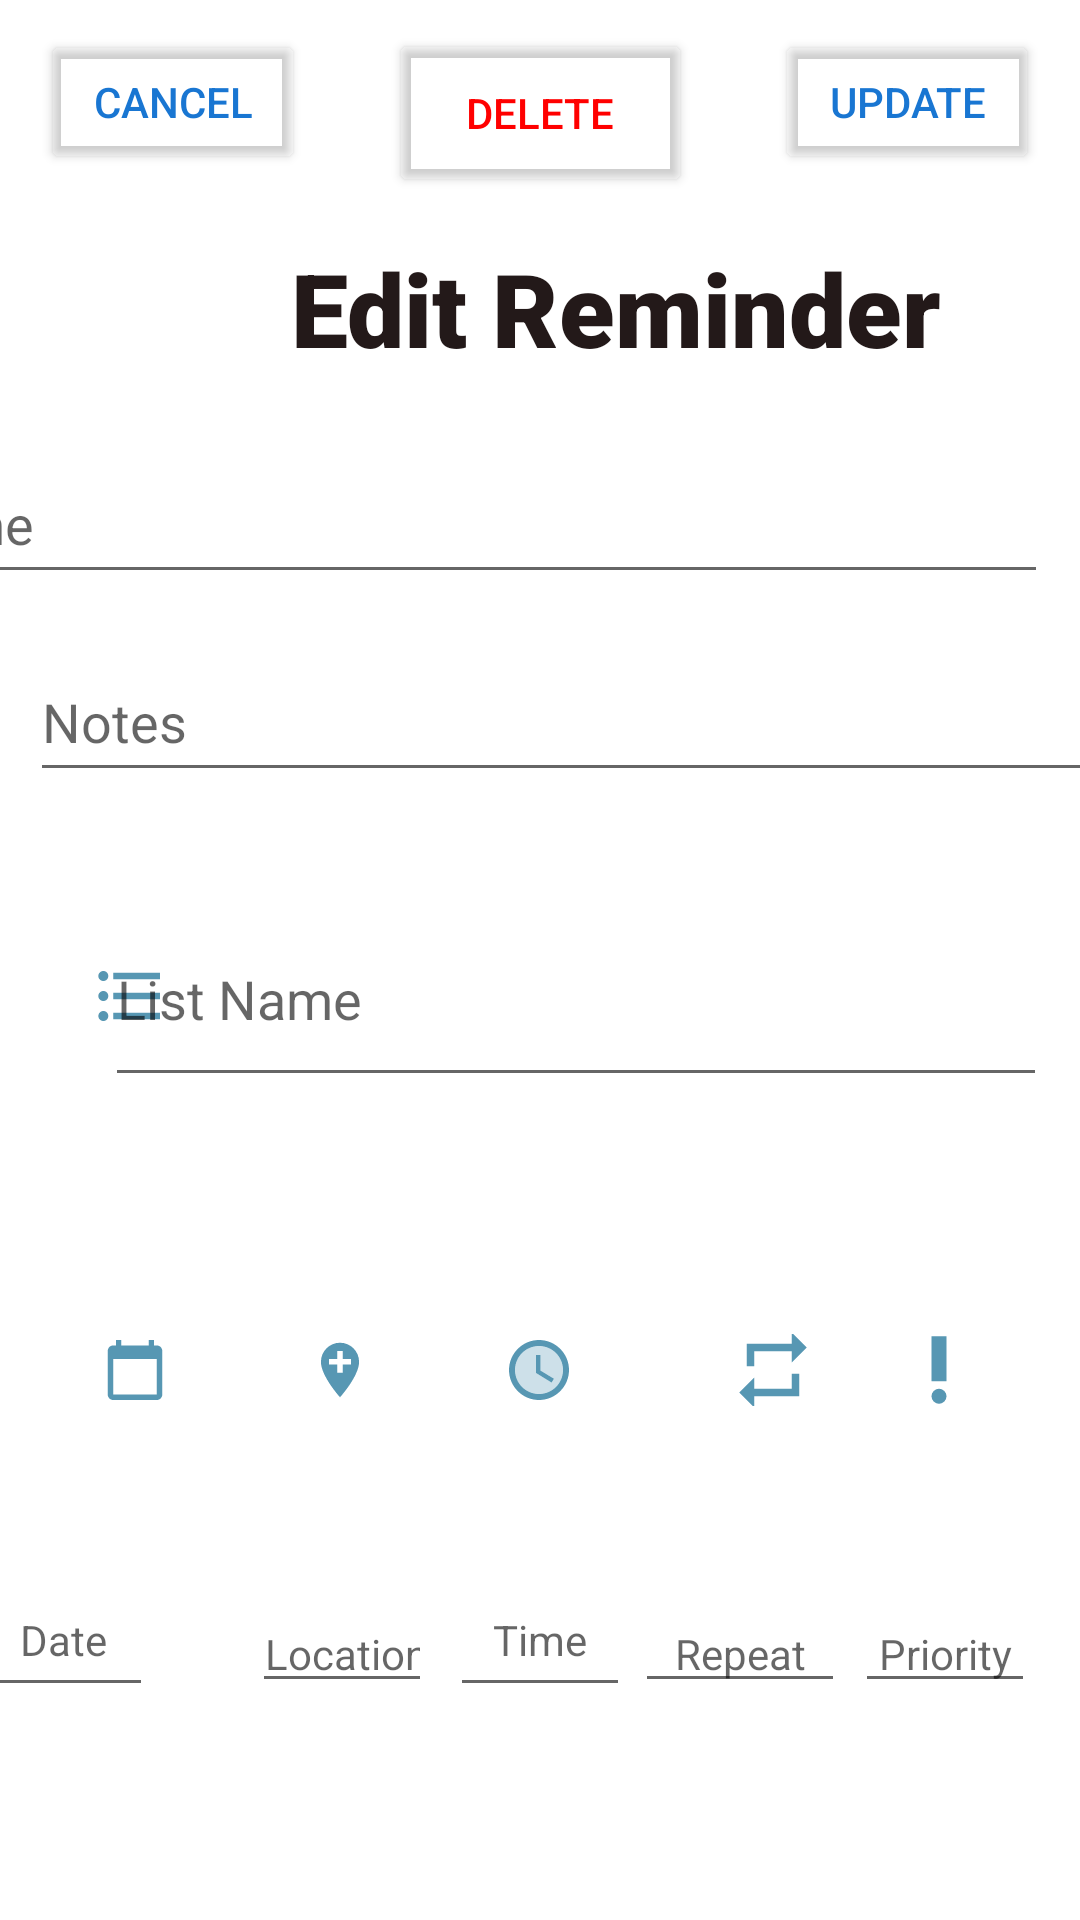

Where icons sit on this 1080 × 1920 app screen, as (x1, y1, x2, y2):
calender: (107, 1340, 163, 1400)
clock: (509, 1340, 569, 1400)
loction: (321, 1342, 359, 1397)
